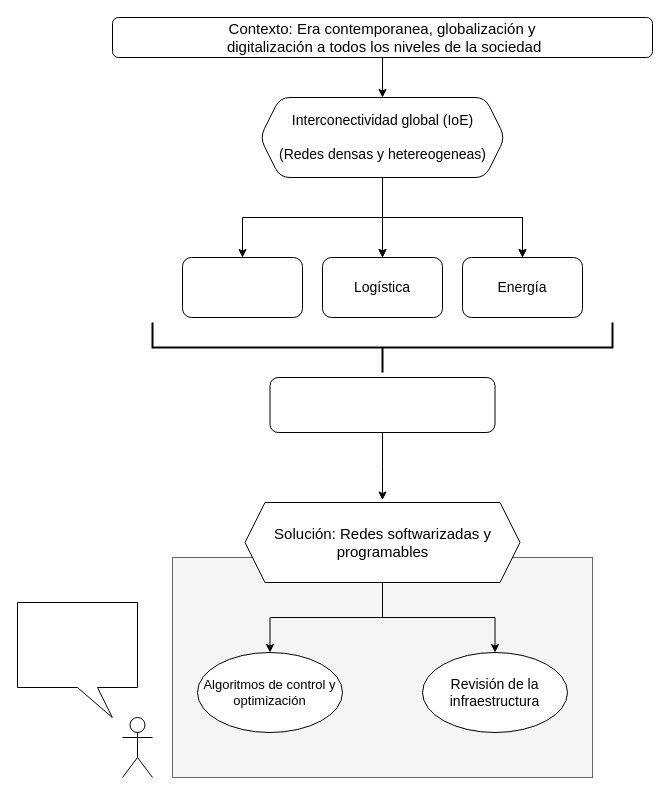
Some shapes in this 670 by 795 pixel diagram are drawn without their labels. The shapes that lost their labels are listed below. From the top down, each one's box as (x1, y1, x2, y2) in pixels, then its label:
(182, 256, 302, 318): Comunicación
(269, 376, 495, 432): Difícil gestión y control
(16, 602, 138, 718): Más o menos, por aquí, se enmarcaría esta Tesis
